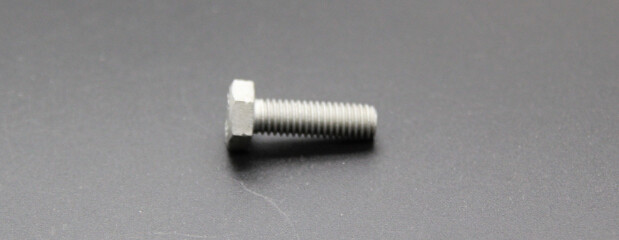screw: (225, 79, 378, 147)
